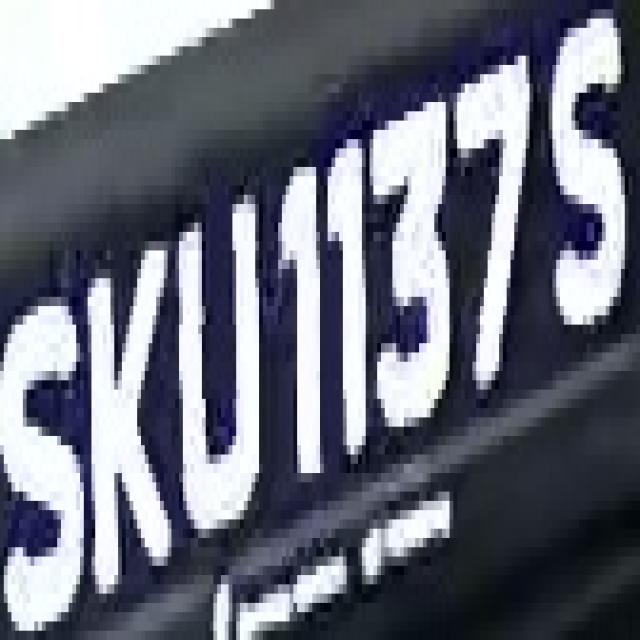1: (274, 112, 324, 520), (324, 111, 373, 501)
3: (366, 102, 468, 436)
7: (434, 47, 537, 380)
K: (76, 232, 160, 594)
S: (545, 9, 632, 371), (0, 4, 1, 10)
U: (168, 195, 270, 556)
